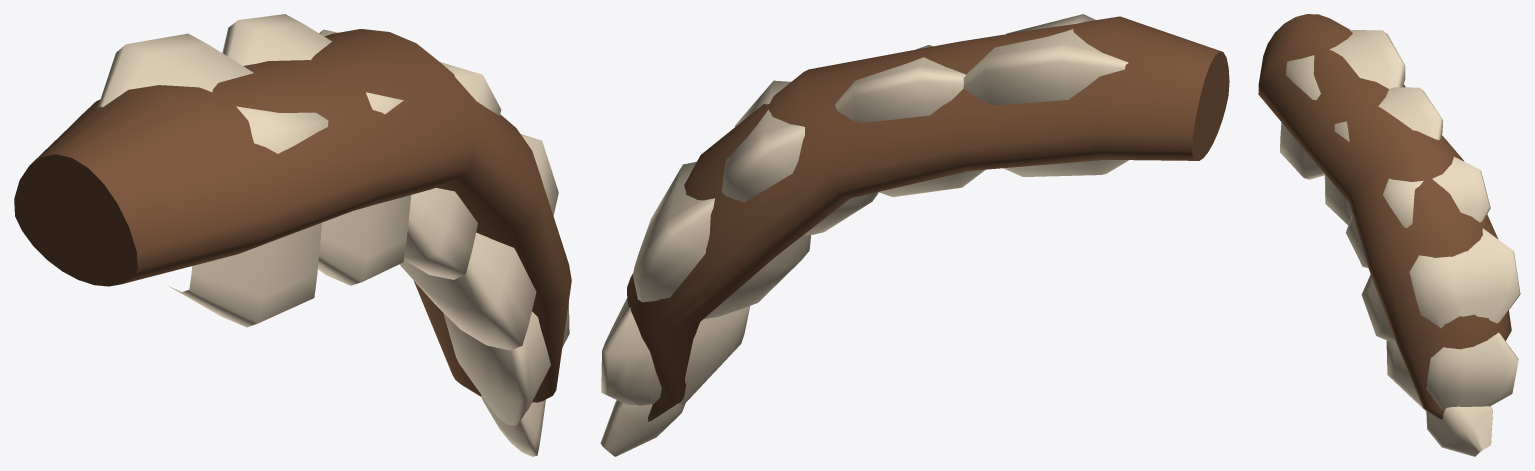
Rendered from siege_claw.glb.
3 views of the same model, side by side, from view 1: azimuth 30°, elevation 25°; view 2: azimuth 150°, elevation 25°; view 3: azimuth 270°, elevation 25° (orthographic). The views are drawn at different scales.
Parts seen in each view (by area): view 1: siege_claw; view 2: siege_claw; view 3: siege_claw.
Boxes of the visible parts, x1,y1,x2,y2 form: siege_claw: [14, 14, 571, 456]; siege_claw: [600, 14, 1229, 456]; siege_claw: [1258, 14, 1520, 456].
Size of the model in its own units: 0.7568 by 0.6512 by 0.5119.
